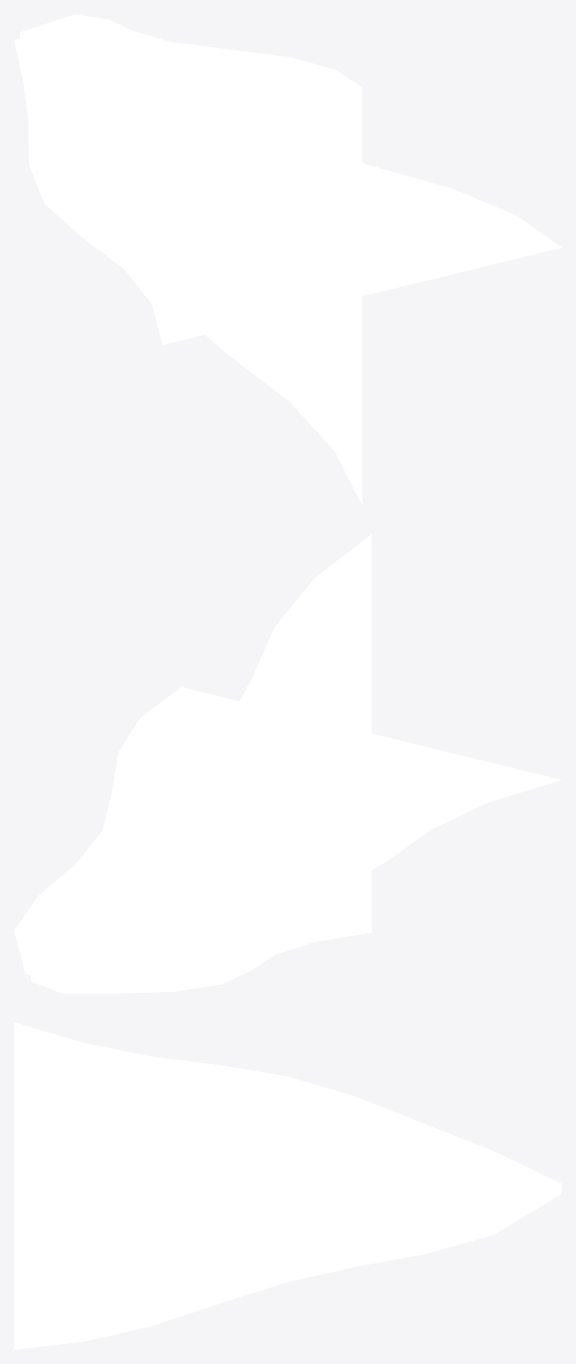
The model's file is leap_trail.glb.
The picture shows the model from 3 angles, top to bottom: view 1: azimuth 30°, elevation 25°; view 2: azimuth 150°, elevation 25°; view 3: azimuth 270°, elevation 25°; orthographic projection. The views are drawn at different scales.
Visible parts, largest first — view 1: leap_trail; view 2: leap_trail; view 3: leap_trail.
Part boxes in pixels (x1,y1,x2,y2): leap_trail: (14,14,561,505); leap_trail: (14,534,560,993); leap_trail: (14,1022,561,1349).
Size of the model in its own units: 0.66 by 0.66 by 1.
1 material, 1 textured.
